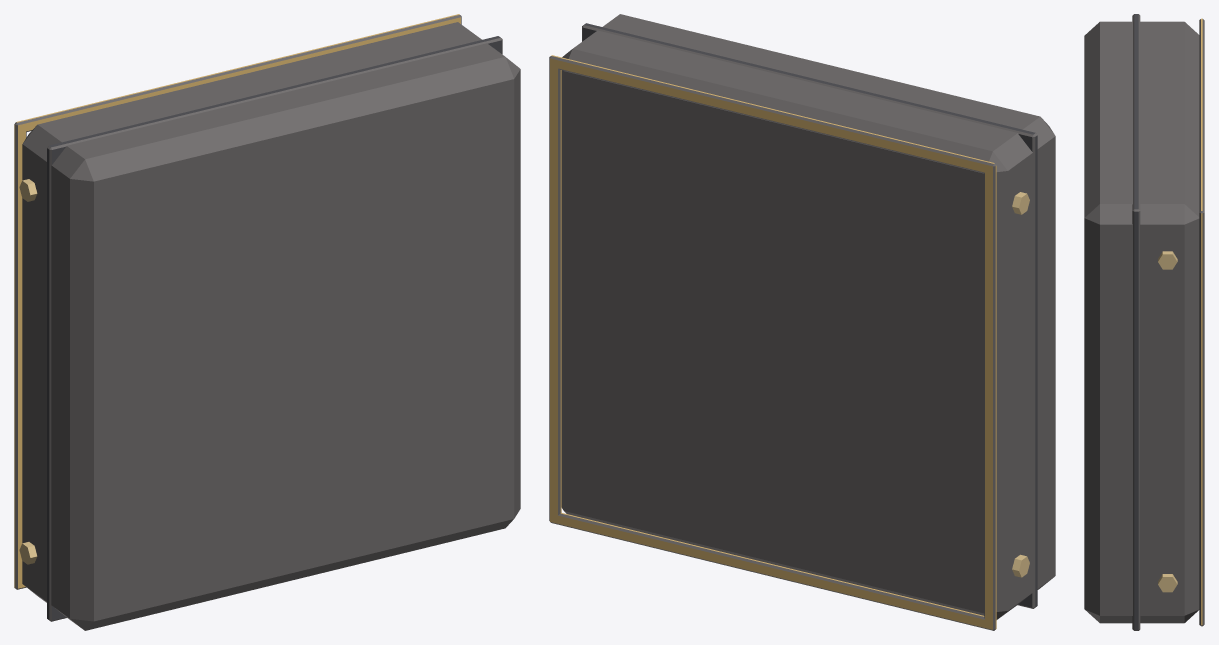
The model's file is Housing.fbx.
3 views of the same model, side by side, from view 1: azimuth 30°, elevation 25°; view 2: azimuth 150°, elevation 25°; view 3: azimuth 270°, elevation 25° (orthographic). The views are drawn at different scales.
Parts seen in each view (by area): view 1: Housing; view 2: Housing; view 3: Housing.
Boxes of the visible parts, bbox=[...] form: Housing: bbox=[14, 14, 520, 630]; Housing: bbox=[549, 14, 1055, 630]; Housing: bbox=[1084, 14, 1204, 630].
Size of the model in its own units: 1.07 by 1.05 by 0.27.
